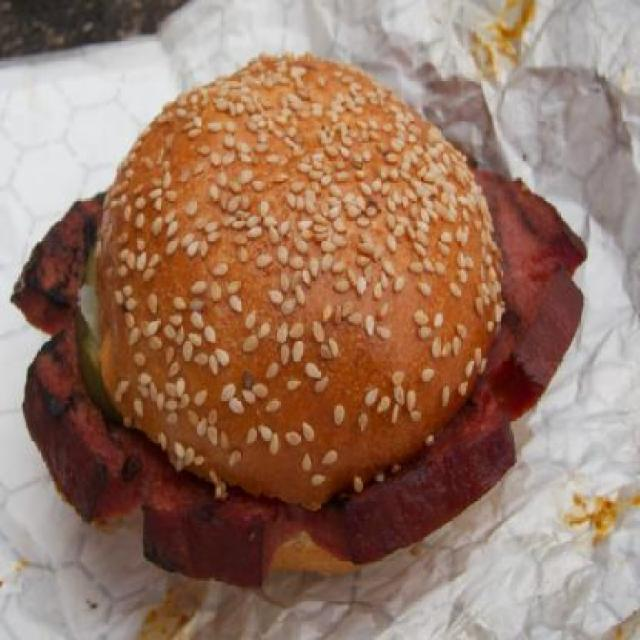Hamburger: (12, 49, 586, 606)
